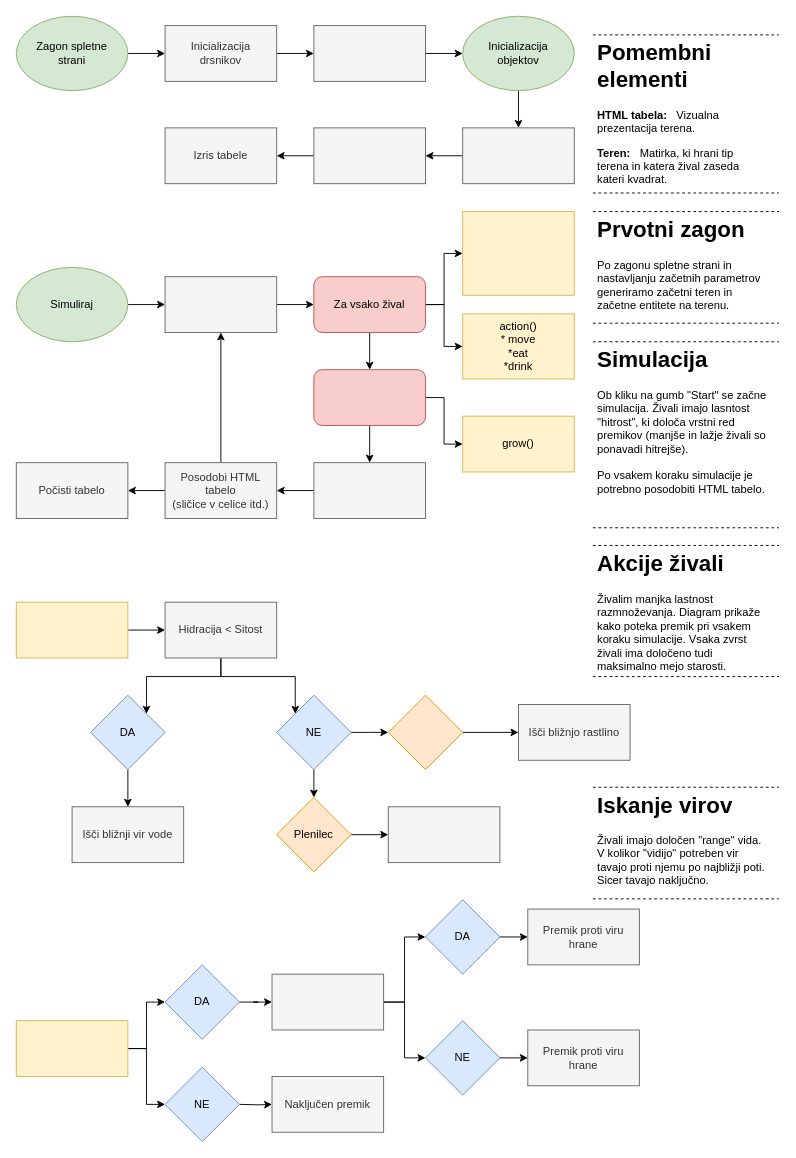
Some shapes in this 796 by 1158 pixel diagram are drawn without their labels. The centre of each missing label's shape, as x and y in pixels:
"Animal action" goes at point 71,629.
"Generacija entitet (živali in rastline)" goes at point 369,155.
"Generacija HTML tabele" goes at point 369,53.
"Generacija terena (voda in kopno)" goes at point 518,155.
"Iskanje uspešno" goes at point 71,1048.
"Išči bližnji plen" goes at point 443,834.
"Plen" goes at point 425,732.
"Posodobi teren (premike živali itd.)" goes at point 369,490.
"Razdalja == 1" goes at point 327,1001.
"Sortiraj živali po hitrosti" goes at point 220,304.
"update() + Age + Size - Thirst - Hunger" goes at point 518,253.
"Za vsako rastlino" goes at point 369,397.
